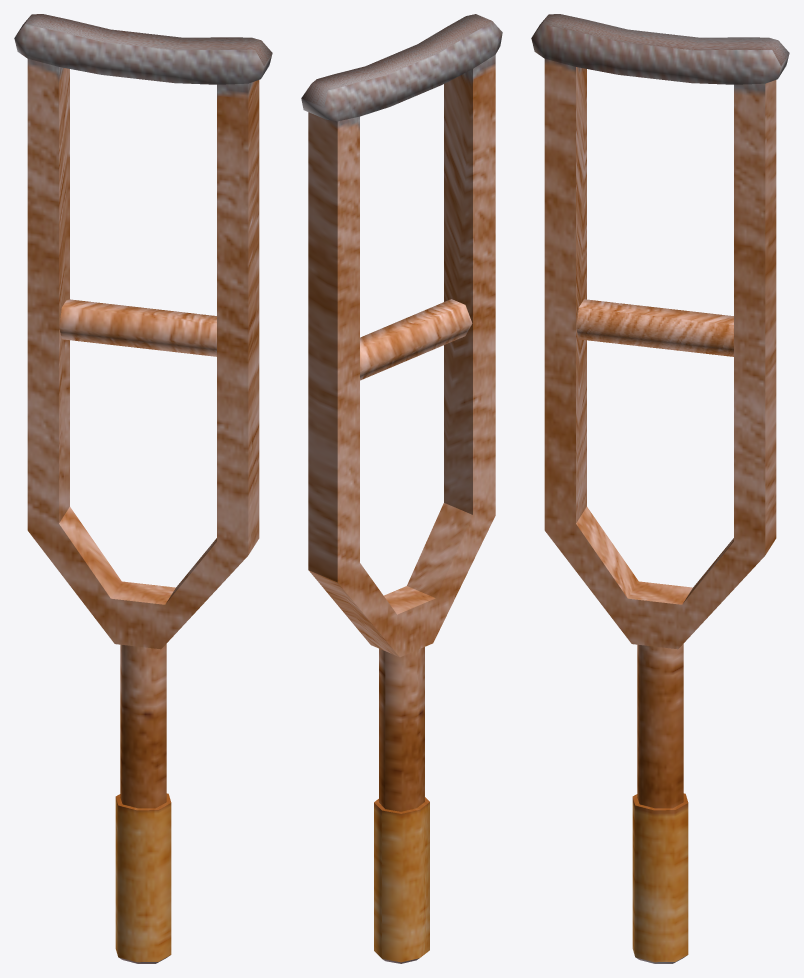
The model's file is crutch.obj.
The picture shows the model from 3 angles, left to right: view 1: azimuth 90°, elevation 25°; view 2: azimuth 150°, elevation 25°; view 3: azimuth 270°, elevation 25°; orthographic projection. The views are drawn at different scales.
Visible parts, largest first — view 1: kolsyl; view 2: kolsyl; view 3: kolsyl.
Part boxes in pixels (x1,y1,x2,y2): kolsyl: (14, 14, 272, 963); kolsyl: (301, 14, 502, 963); kolsyl: (531, 14, 789, 963).
Size of the model in its own units: 6.48 by 65.11 by 16.48.
Materials: 1 (1 with a texture image).
